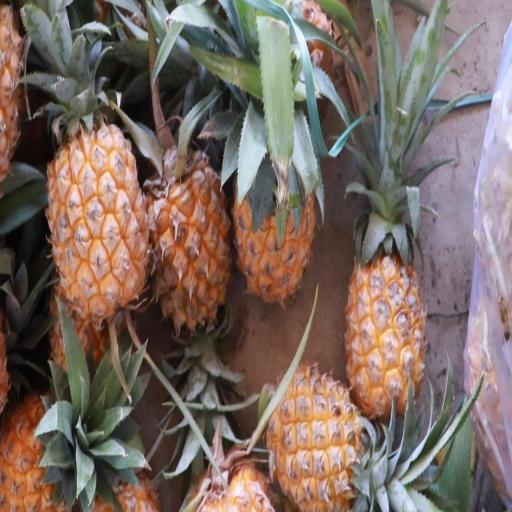Pineapple - v8 v1: (40, 96, 152, 329), (342, 182, 428, 424), (143, 132, 238, 334), (232, 113, 318, 316), (258, 359, 371, 511)
